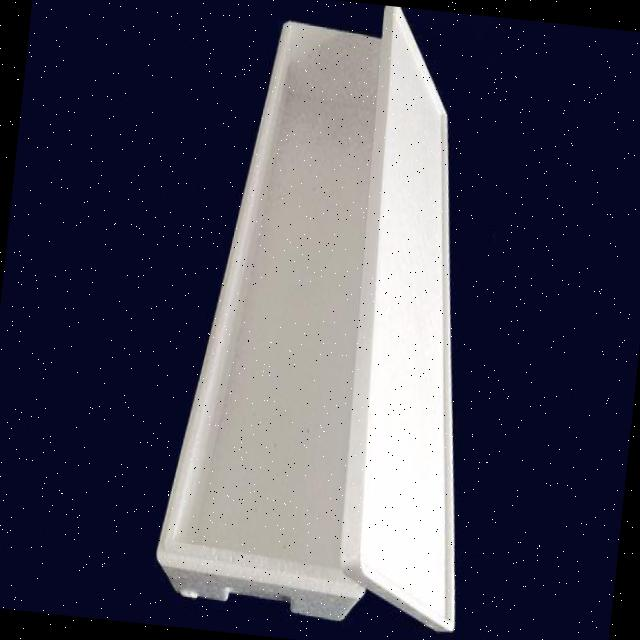styrofoam: (148, 0, 518, 637)
